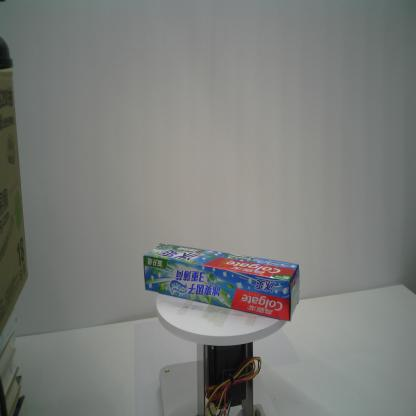Personal Hygiene: (141, 241, 301, 324)
